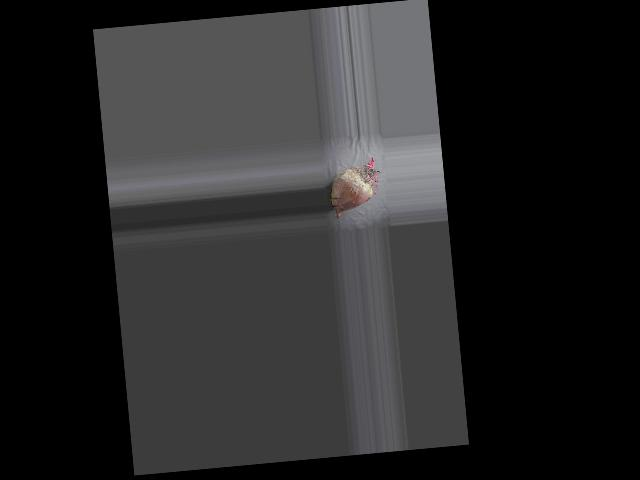beet: (327, 156, 383, 220)
